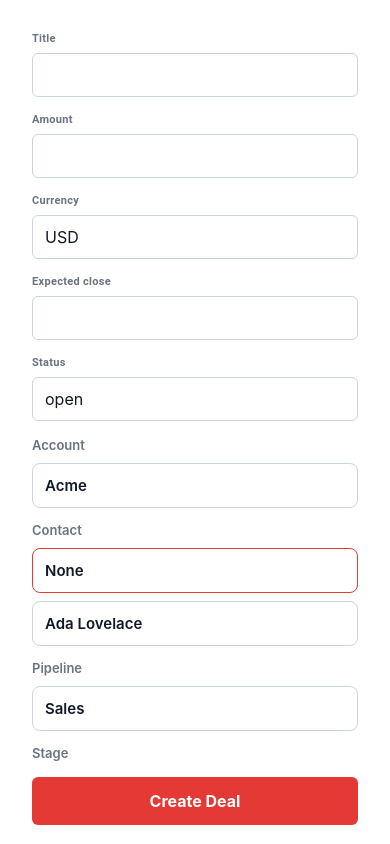
CRM deal create form › validates required selectors after title is present
The image size is (390, 844).
Type "Expansion" into the field with test id "crm-deal-form-title" at [195, 75], box [32,53,358,97]
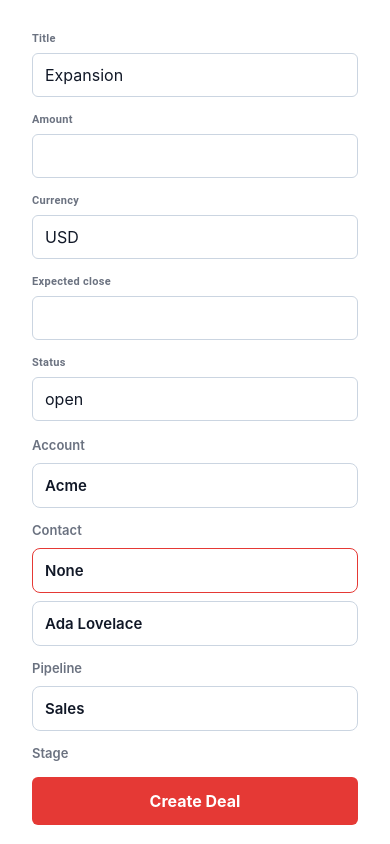
Click the element with test id "crm-deal-form-submit" at [195, 801], box [32,777,358,825]
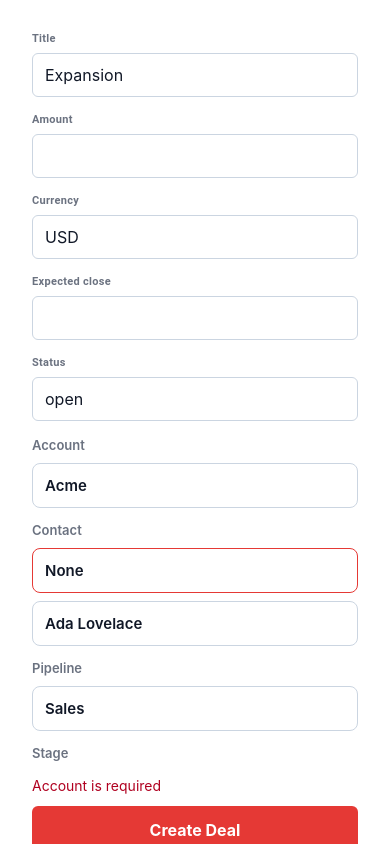
Check: the text "Account is required" is shown, box [32,777,161,794]
